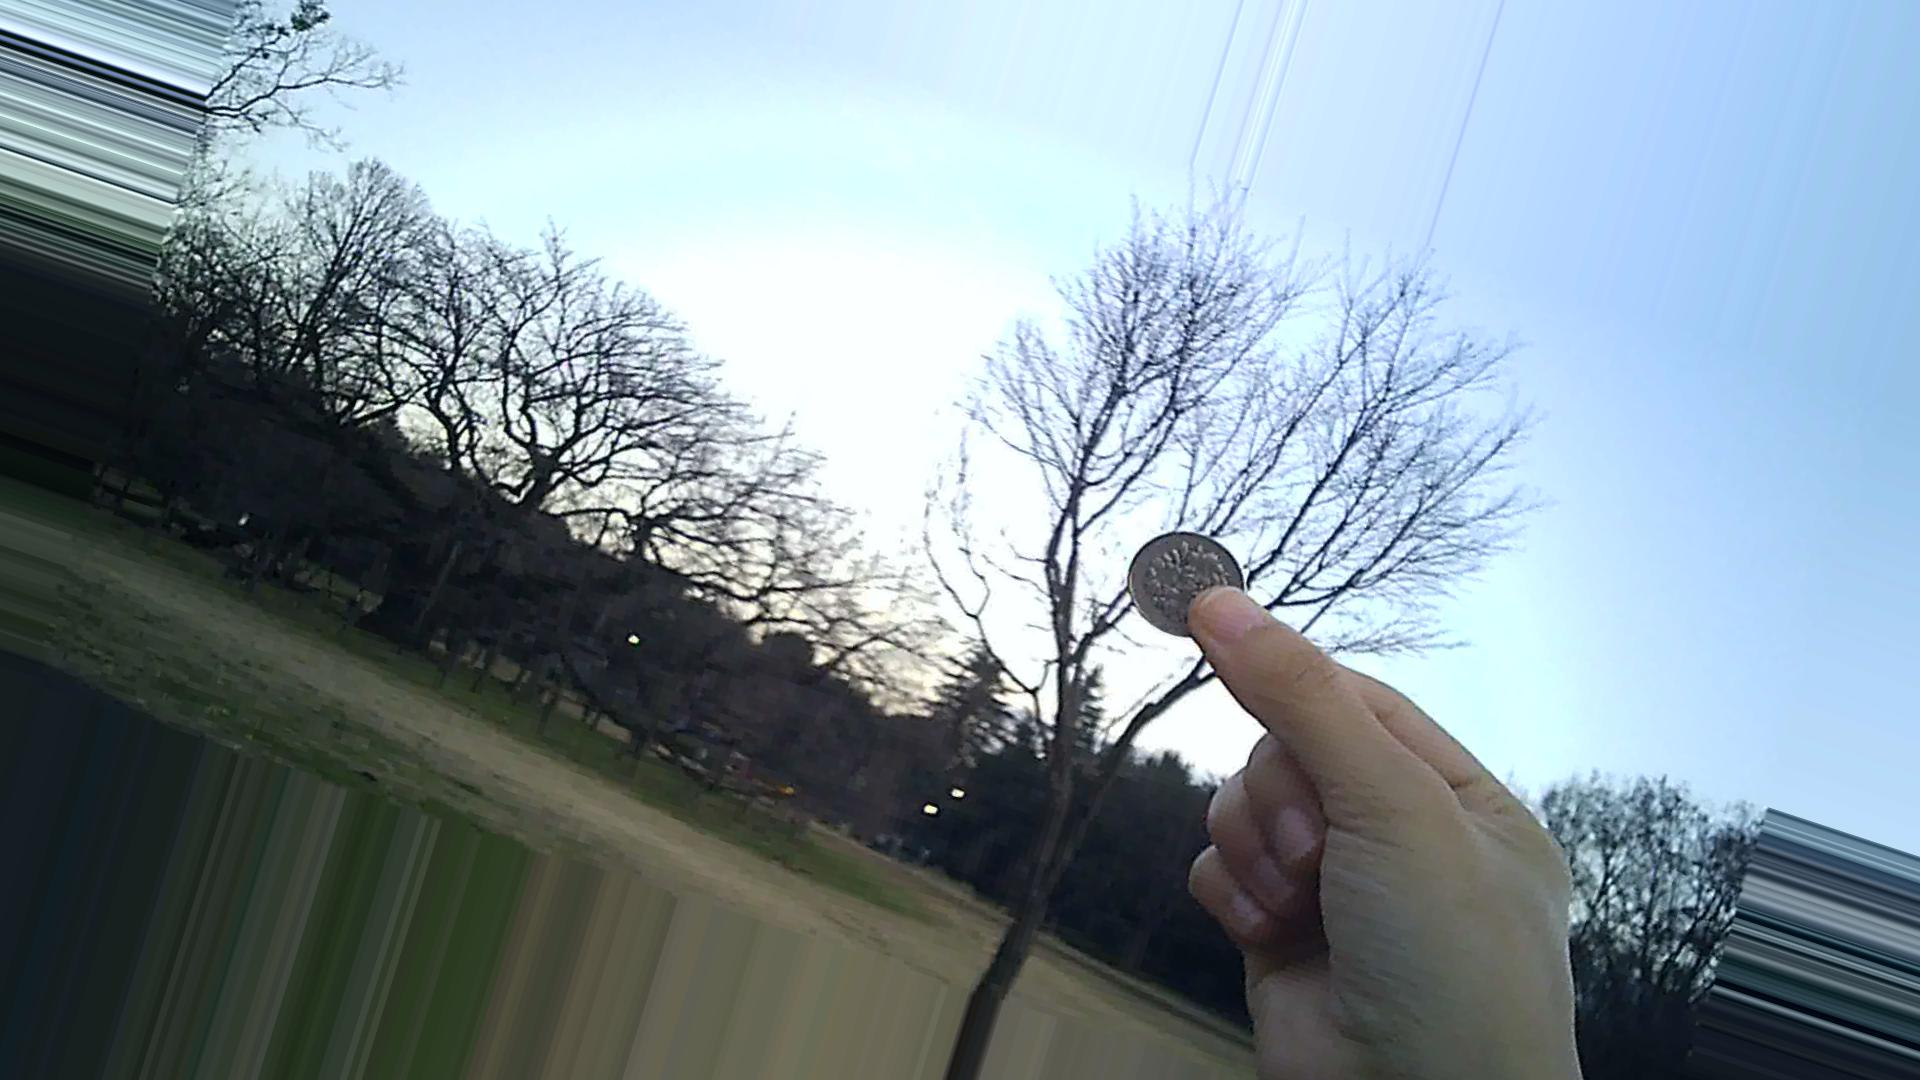100 Yen: (1131, 534, 1258, 644)
